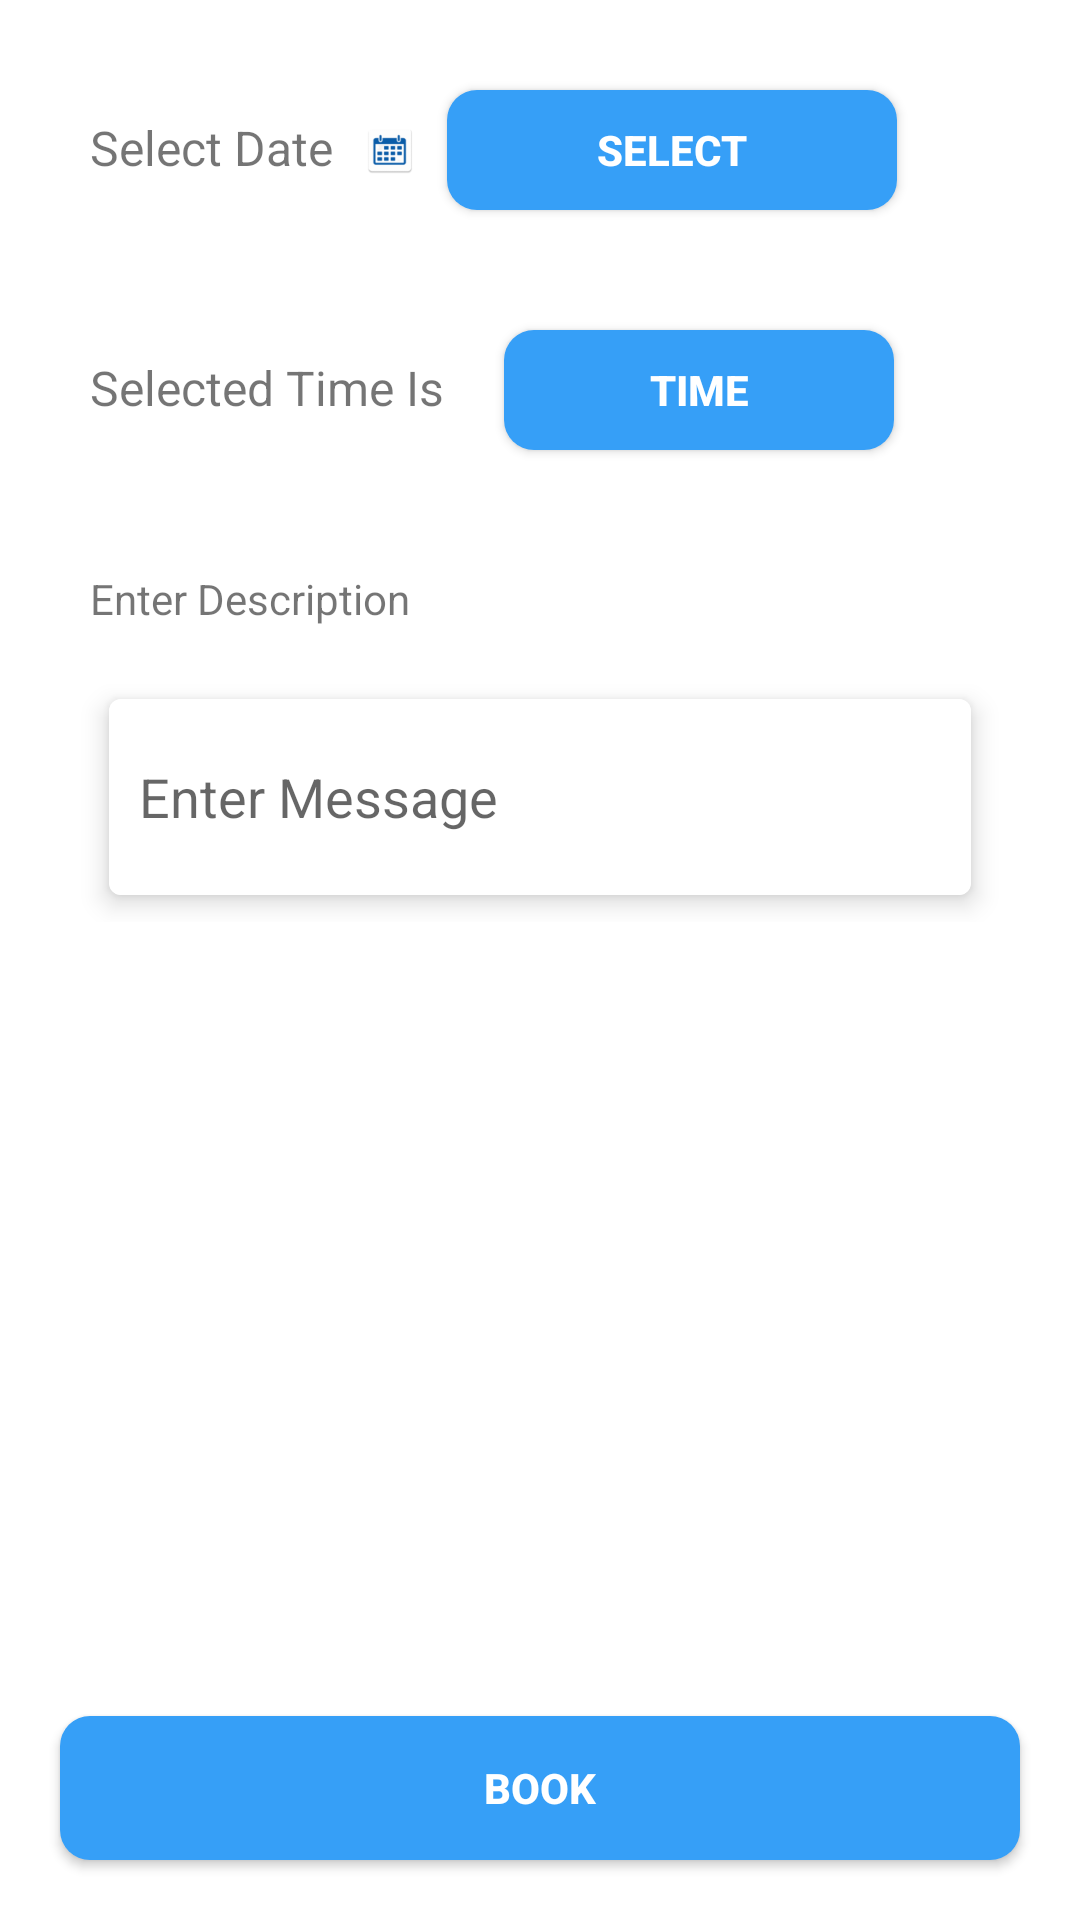

Where to tap for icons on this 1080 x 1920 app screen, as (x,y):
calender: (390,153)
